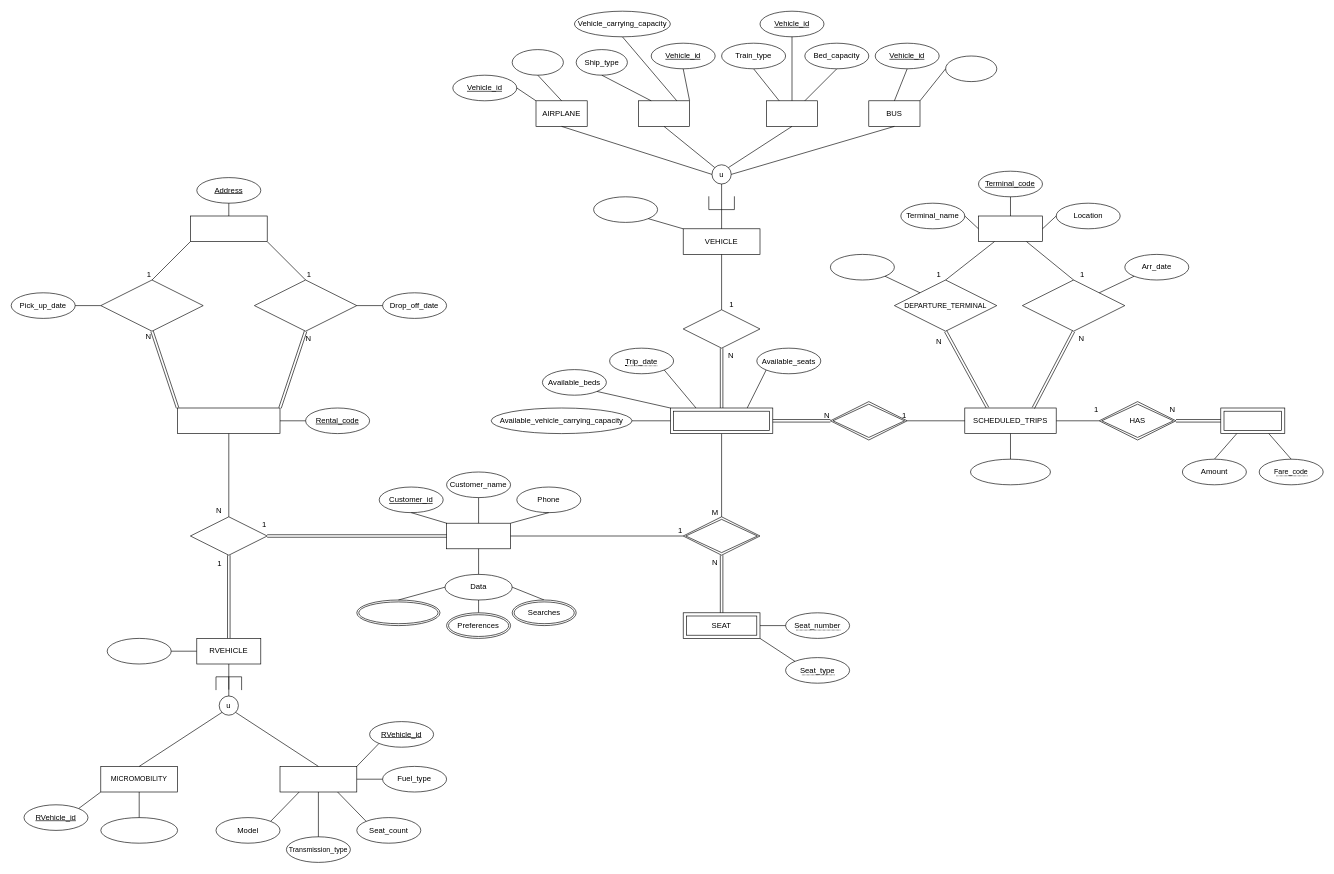
Some shapes in this 1334 by 874 pixel diagram are drawn without their labels. The shapes that lost their labels are listed below. From the top down, each one's box as (x1, y1, x2, y2) in pixels, then its label:
(512, 49, 563, 75): Aircraft_type
(945, 55, 997, 82): Bus_type
(638, 100, 690, 126): SHIP
(766, 100, 818, 126): TRAIN
(190, 215, 267, 242): RENTAL_LOCATION
(593, 196, 658, 222): Seat_capacity
(978, 215, 1042, 242): TERMINAL
(830, 254, 894, 280): Dep_date
(100, 279, 203, 331): PICK_UP_LOCATION
(254, 279, 357, 331): DROP_OFF_LOCATION
(1022, 279, 1125, 331): ARRIVAL_TERMINAL
(683, 309, 760, 348): ASSIGNED
(177, 407, 280, 434): RENTAL_INSTANCE
(670, 407, 773, 434): TRIP_INSTANCE
(830, 401, 907, 440): INSTANCE_OF
(1220, 407, 1285, 434): FARE
(970, 459, 1050, 485): Trip_code
(190, 516, 267, 555): RENTAL
(446, 523, 511, 549): CUSTOMER
(683, 516, 760, 555): RESERVATION
(356, 599, 440, 626): Transportation_history
(107, 638, 171, 664): Price
(279, 766, 357, 792): CAR
(100, 817, 178, 843): Micromobility_type
